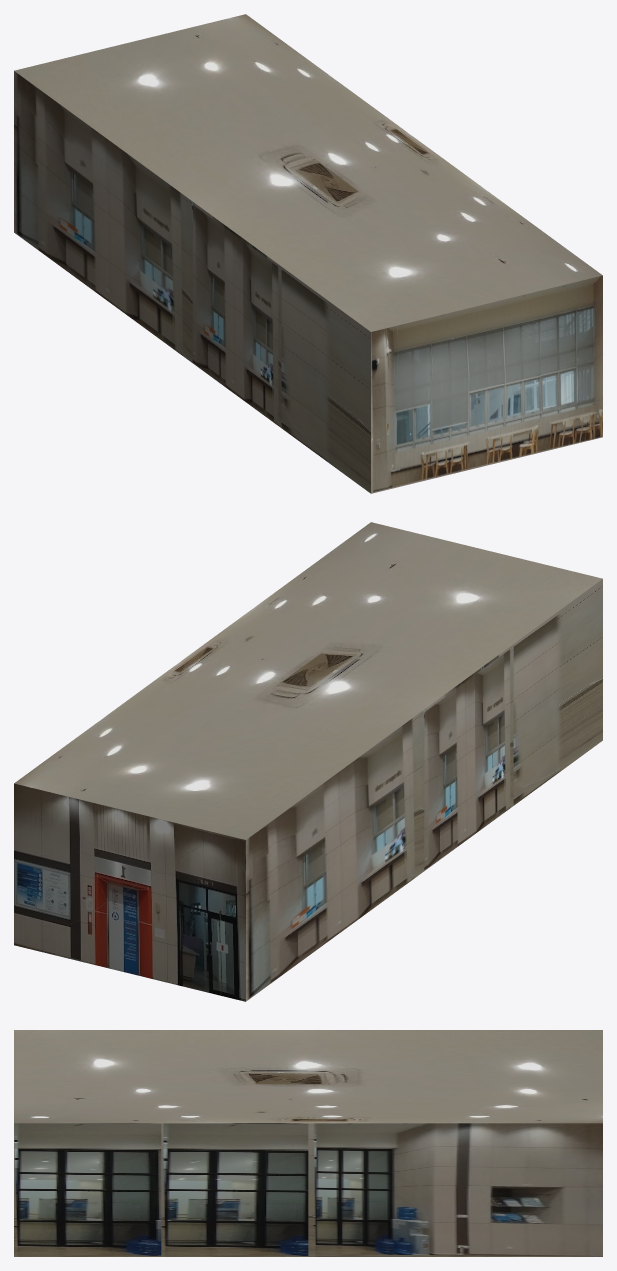
3 views of the same model, one above another, from view 1: azimuth 30°, elevation 25°; view 2: azimuth 150°, elevation 25°; view 3: azimuth 270°, elevation 25° (orthographic). The views are drawn at different scales.
Parts seen in each view (by area): view 1: Cube; view 2: Cube; view 3: Cube.
Part boxes in pixels (x1,y1,x2,y2): Cube: (14, 14, 602, 493); Cube: (14, 522, 602, 1001); Cube: (14, 1030, 602, 1256).
Bounding box in the file's own units: 6 × 4 × 16.
1 material, 1 textured.
